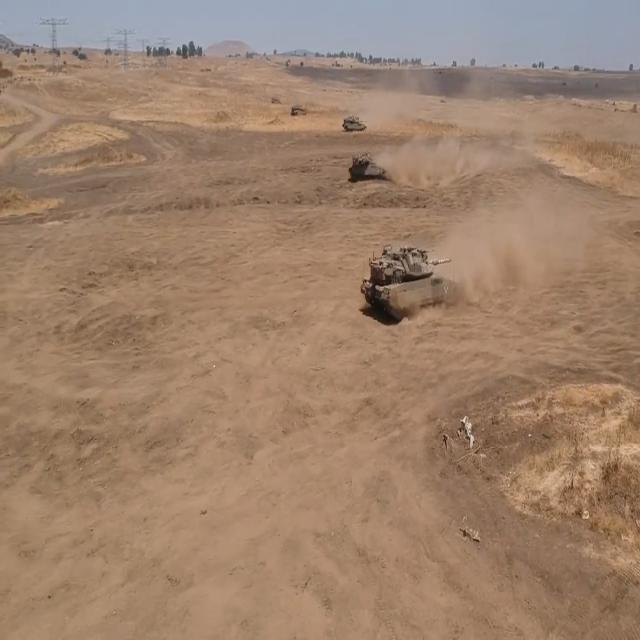tank: (366, 235, 460, 321), (350, 155, 390, 184), (344, 108, 365, 138), (291, 100, 306, 121)
